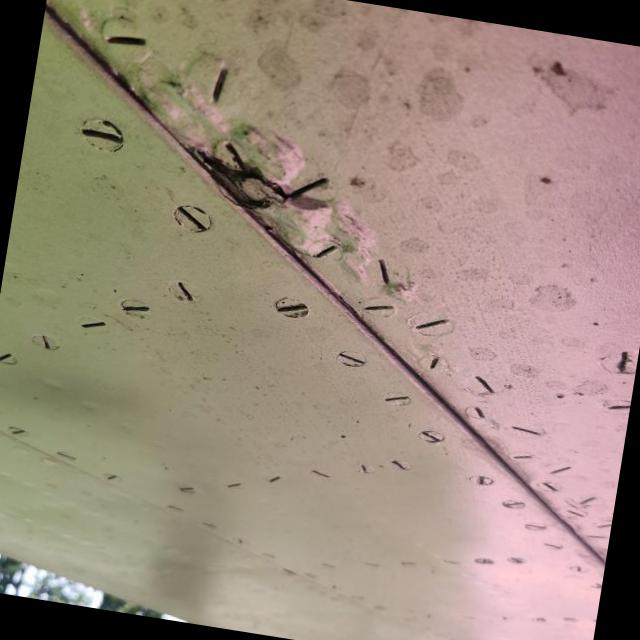Paint-off: (187, 140, 328, 211)
